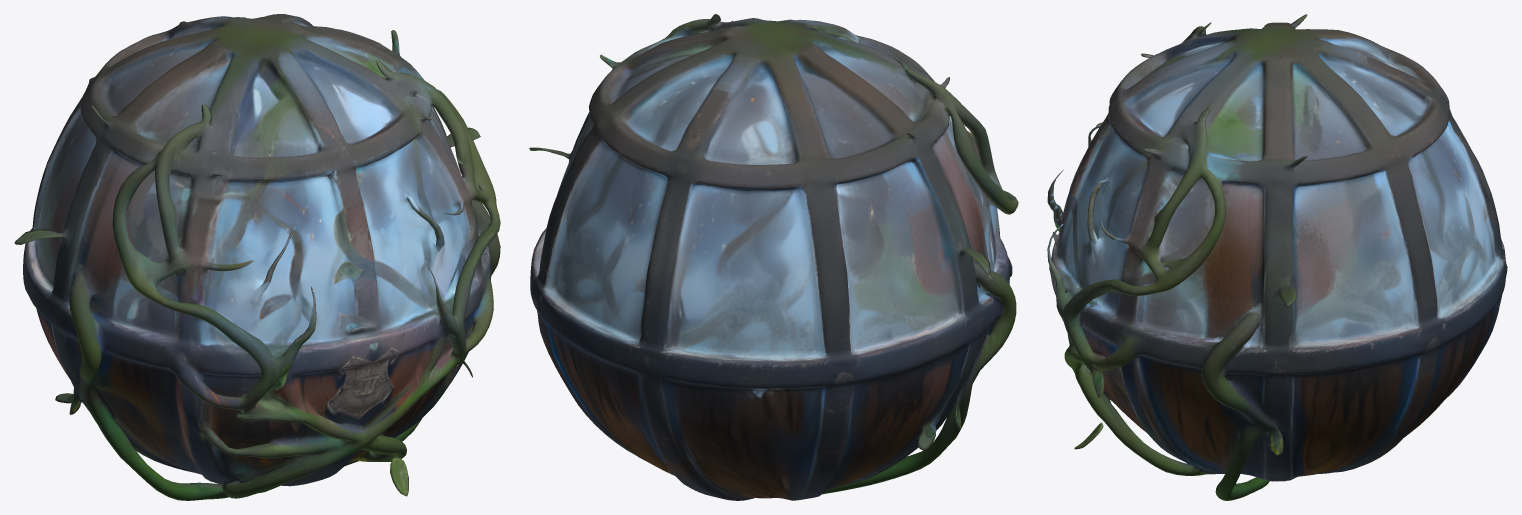
The model's file is lod_basic_pbr.fbx.
The picture shows the model from 3 angles, left to right: view 1: azimuth 30°, elevation 25°; view 2: azimuth 150°, elevation 25°; view 3: azimuth 270°, elevation 25°; orthographic projection. The views are drawn at different scales.
Visible parts, largest first — view 1: model_LOD0; view 2: model_LOD0; view 3: model_LOD0.
Boxes of the visible parts, x1,y1,x2,y2 form: model_LOD0: (14, 14, 500, 500); model_LOD0: (529, 14, 1018, 500); model_LOD0: (1047, 14, 1507, 500).
Size of what is drawn, in the model's own units: 188 by 178 by 169.
Materials: 1 (1 with a texture image).
